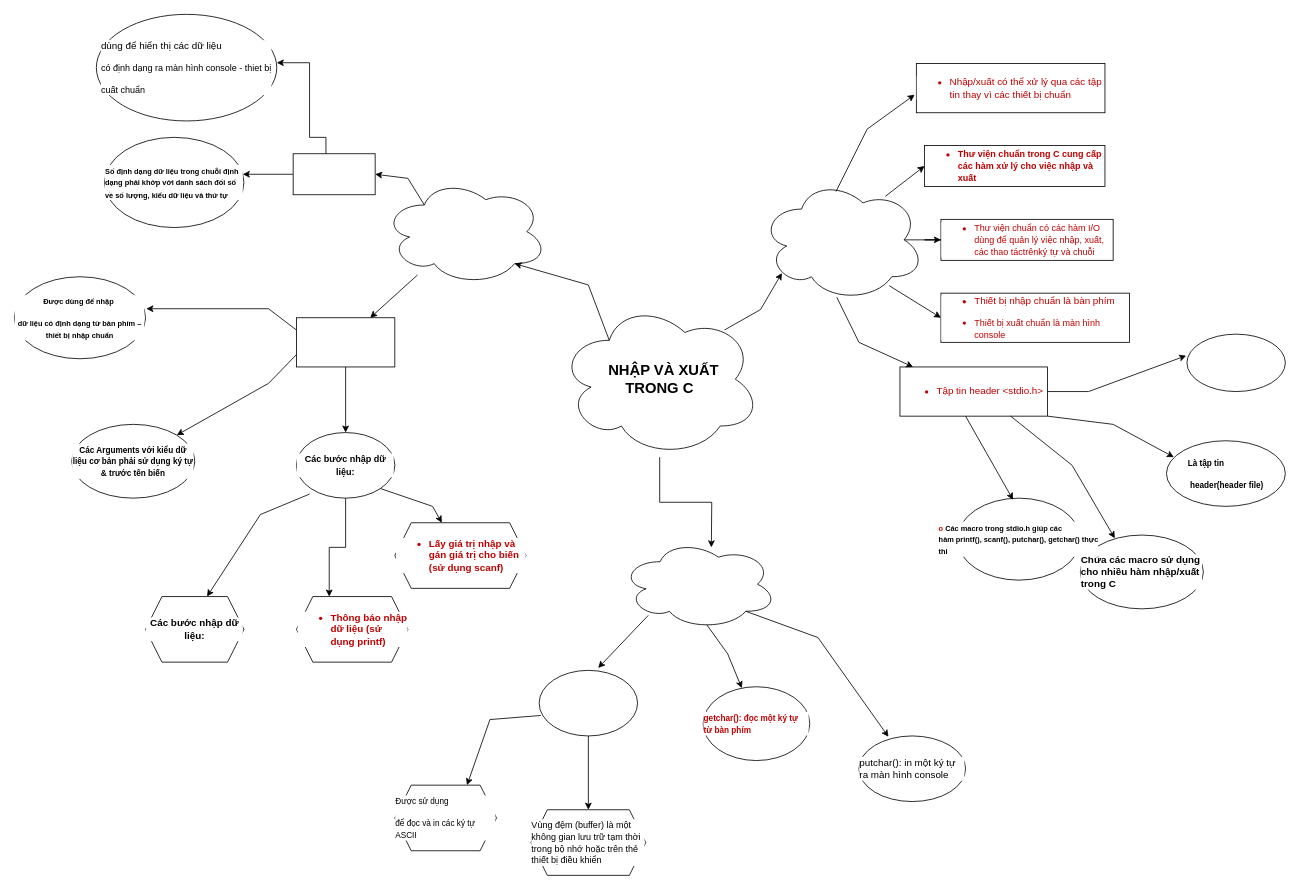
Image size: 1300x891. Some labels were removed from this diagram. Here are the shapes that lost their labels. From the top down, the centre of each, then its label:
At (333,174): "printf - xuất có định dạng".
At (465,231): "Nhập xuất có định dạng".
At (842,239): "Nhập xuất chuẩn với <stdio.h>".
At (345,342): "SCANF-NHAP CO DINH DẠNG".
At (1235,362): "Câu lệnh tiền xử lý".
At (698,583): "NHẬP XUẤT KÍ TỰ".
At (588,703): "Vùng đệm nhập xuất".
